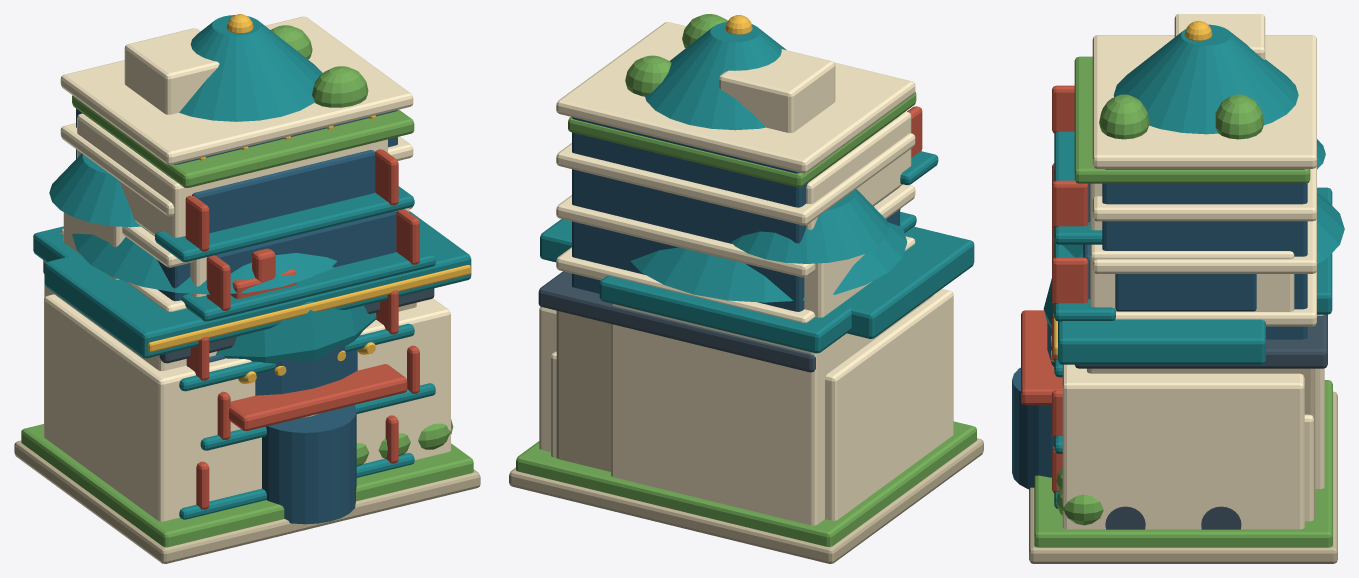
Rendered from city-landmarks.glb.
3 views of the same model, side by side, from view 1: azimuth 30°, elevation 25°; view 2: azimuth 150°, elevation 25°; view 3: azimuth 270°, elevation 25° (orthographic). The views are drawn at different scales.
Visible parts, largest first — view 1: Cube.001, board_apartment, board_gas_station, board_villa, lobby_door, Cube.044, board_prison, board_magic, board_clinic, board_news; view 2: Cube.001, board_clinic, board_prison, board_apartment, board_villa, board_gas_station, board_magic, board_news; view 3: Cube.001, board_apartment, board_gas_station, board_villa, board_prison, board_clinic, lobby_door, board_magic, board_news, Cube.044.
Boxes of the visible parts, <box> form: Cube.001: <box>14,15,479,562</box>; board_apartment: <box>15,25,480,563</box>; board_gas_station: <box>18,211,477,550</box>; board_villa: <box>21,419,473,547</box>; lobby_door: <box>262,405,356,524</box>; Cube.044: <box>216,266,376,417</box>; board_prison: <box>16,153,434,550</box>; board_magic: <box>14,233,479,563</box>; board_clinic: <box>33,226,296,371</box>; board_news: <box>16,14,478,561</box>; Cube.001: <box>511,22,983,562</box>; board_clinic: <box>510,233,939,563</box>; board_prison: <box>510,189,981,552</box>; board_apartment: <box>509,14,983,563</box>; board_villa: <box>516,421,976,546</box>; board_gas_station: <box>511,219,980,550</box>; board_magic: <box>509,222,983,563</box>; board_news: <box>510,15,982,561</box>; Cube.001: <box>1021,24,1334,562</box>; board_apartment: <box>1029,14,1337,563</box>; board_gas_station: <box>1030,228,1336,549</box>; board_villa: <box>1034,380,1332,547</box>; board_prison: <box>1034,139,1336,552</box>; board_clinic: <box>1105,187,1332,529</box>; lobby_door: <box>1012,367,1054,489</box>; board_magic: <box>1030,192,1344,563</box>; board_news: <box>1029,20,1337,551</box>; Cube.044: <box>1043,278,1336,550</box>.
Bounding box in the file's own units: 3.09 × 4.06 × 2.64.
